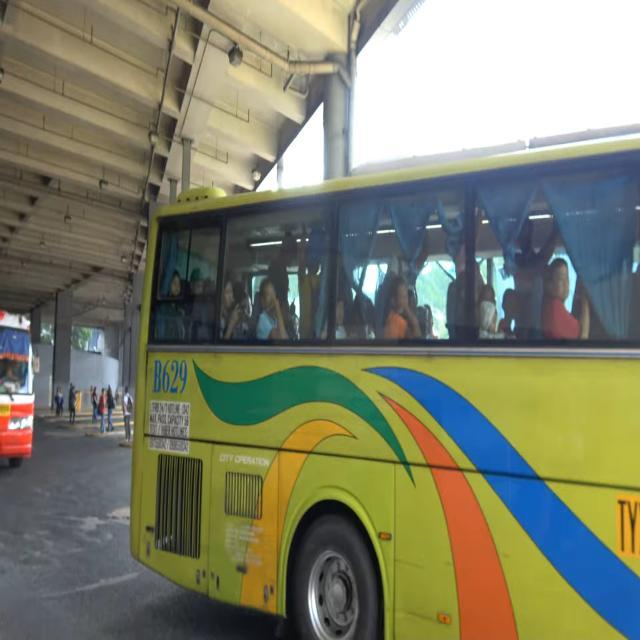bus: (131, 122, 640, 640), (0, 308, 35, 470)
